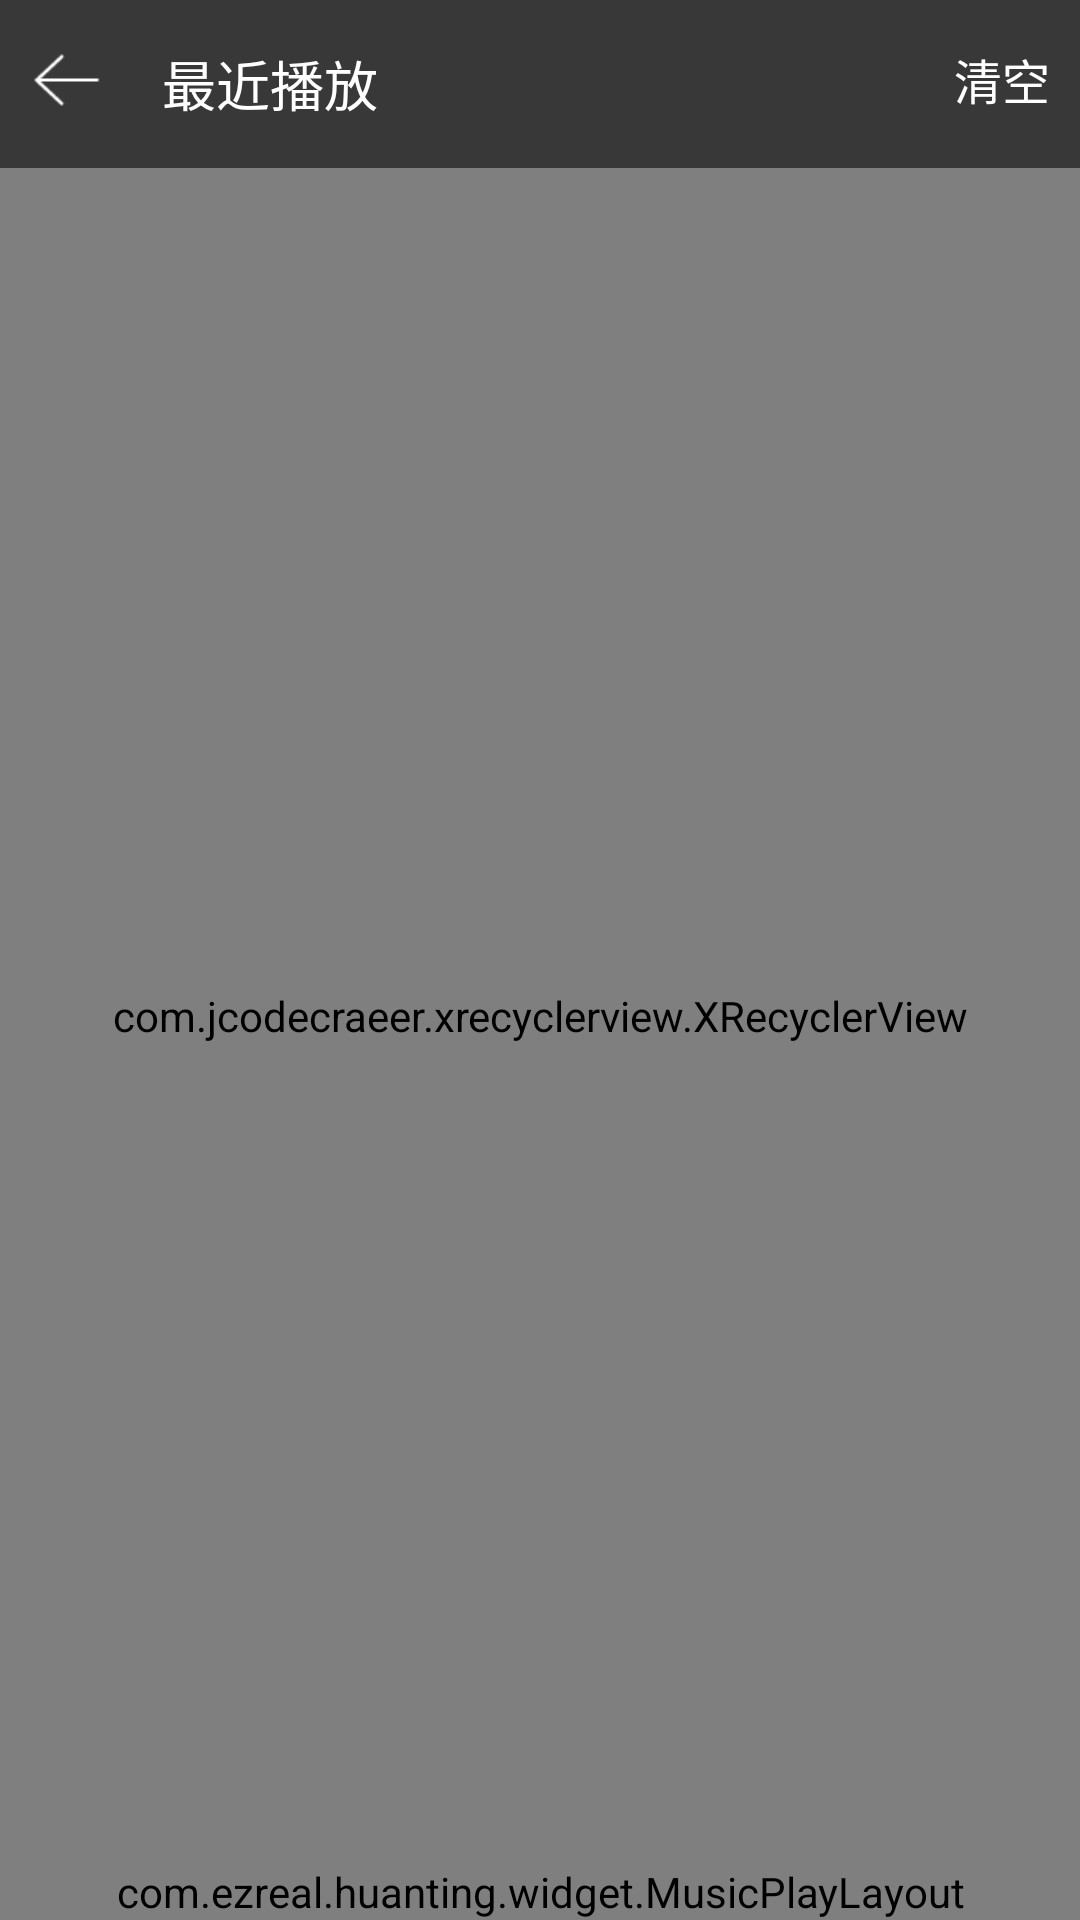

Screen size 1080×1920. Icon name, then its box in pixels as {"left": x1, "top": y1, "right": x2, "bottom": y2}:
title back: {"left": 34, "top": 54, "right": 99, "bottom": 106}
